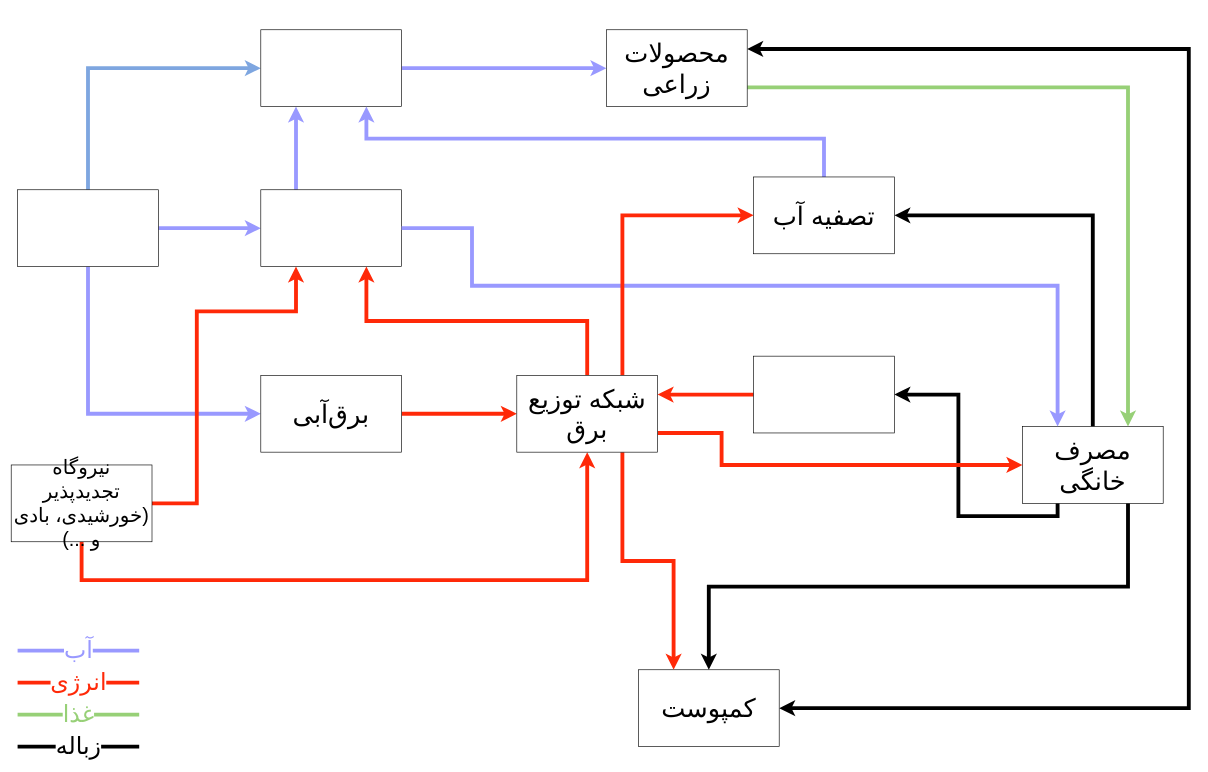
This 1208x772 diagram has some shape labels left out. Here are the shapes that lost their labels. From the top down, the centre of each, then its label:
At pixel 331 68: "آبیاری قطره‌ای، بارانی، عقربه‌ای و...".
At pixel 87 228: "مخازن، رواناب و آبخوان".
At pixel 331 228: "پمپ‌ها".
At pixel 823 394: "زباله سوز".
